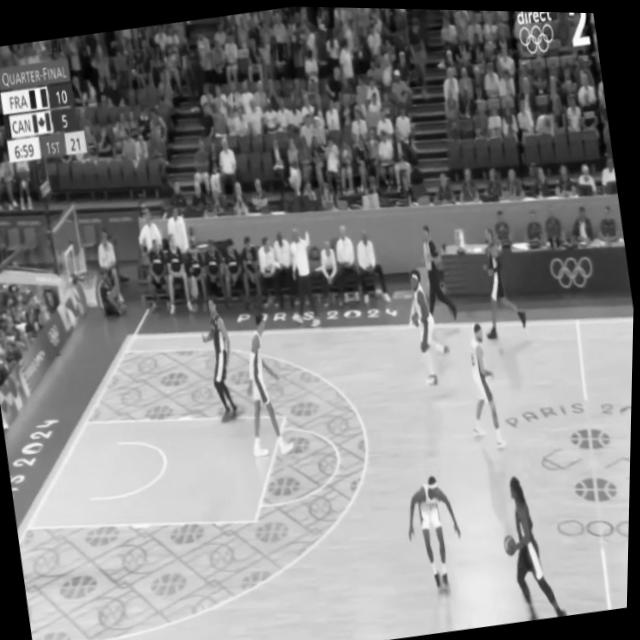ball_handler: (492, 462, 572, 622)
